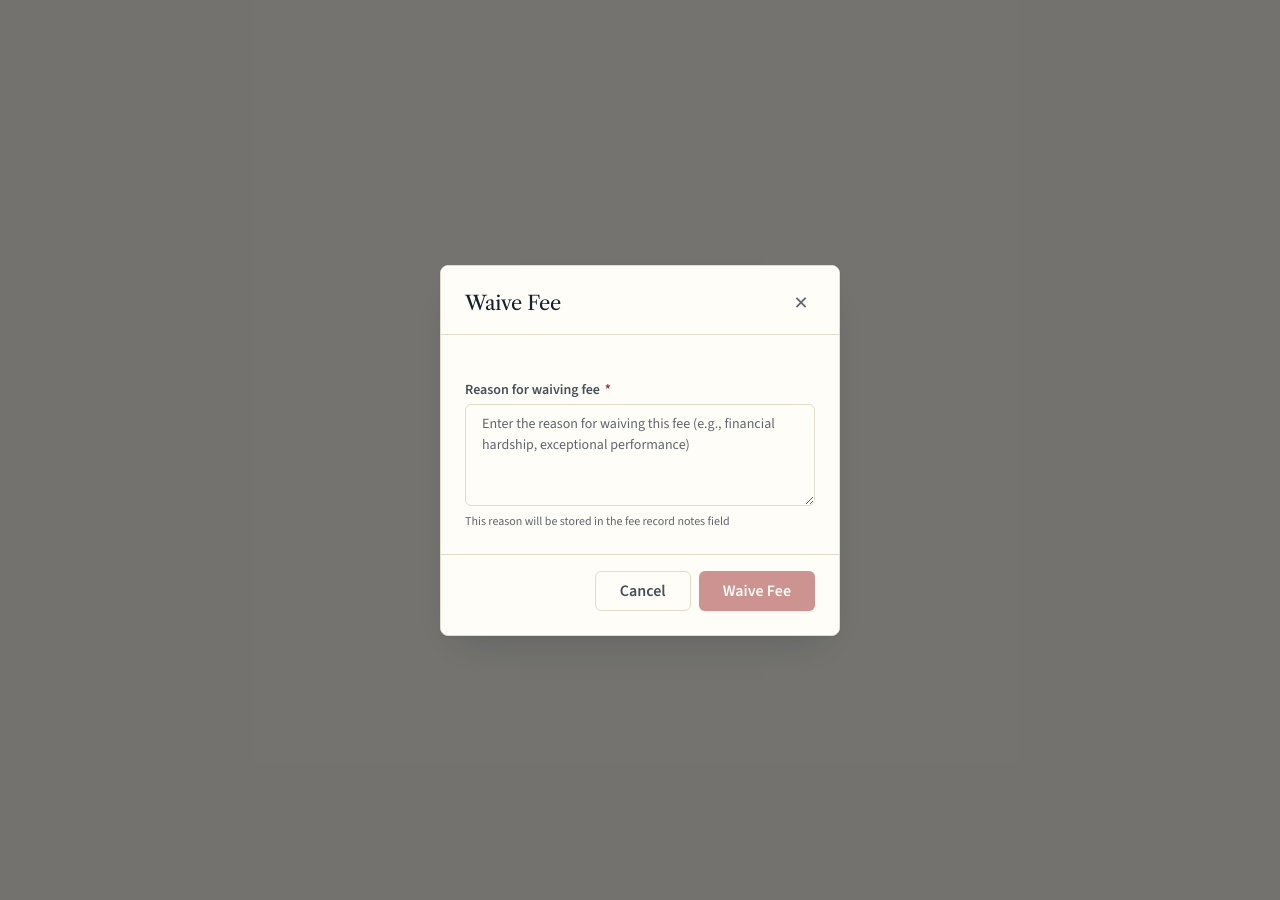
Test case: WaiveFeeModal › should show loading state when submitting
The image size is (1280, 900).
Replace the text in the text box labelled "Reason for waiving fee *" with "Test reason" at [640, 454], box [465, 404, 815, 506]
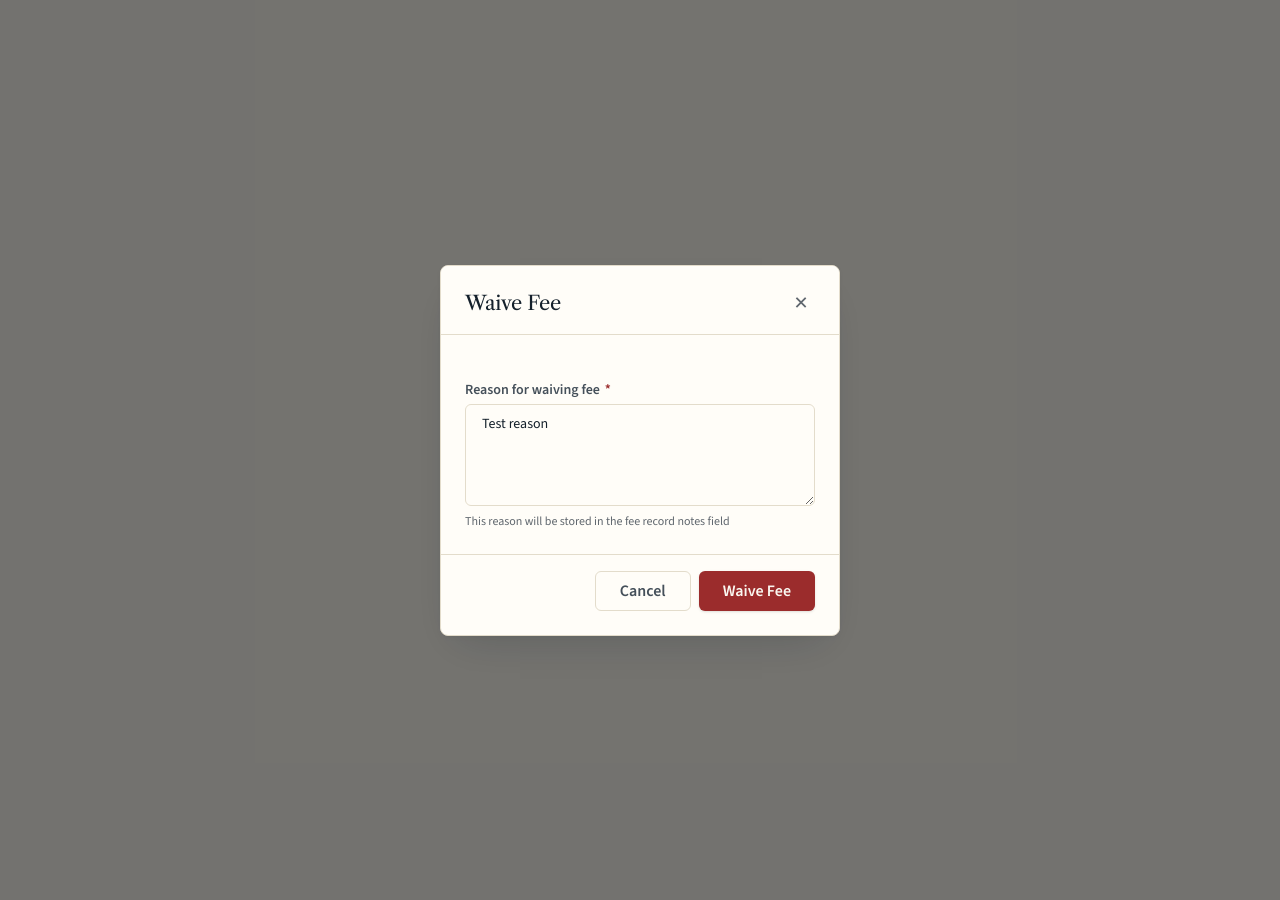
Click the button "Waive Fee".
click(757, 590)  # box [699, 570, 815, 610]
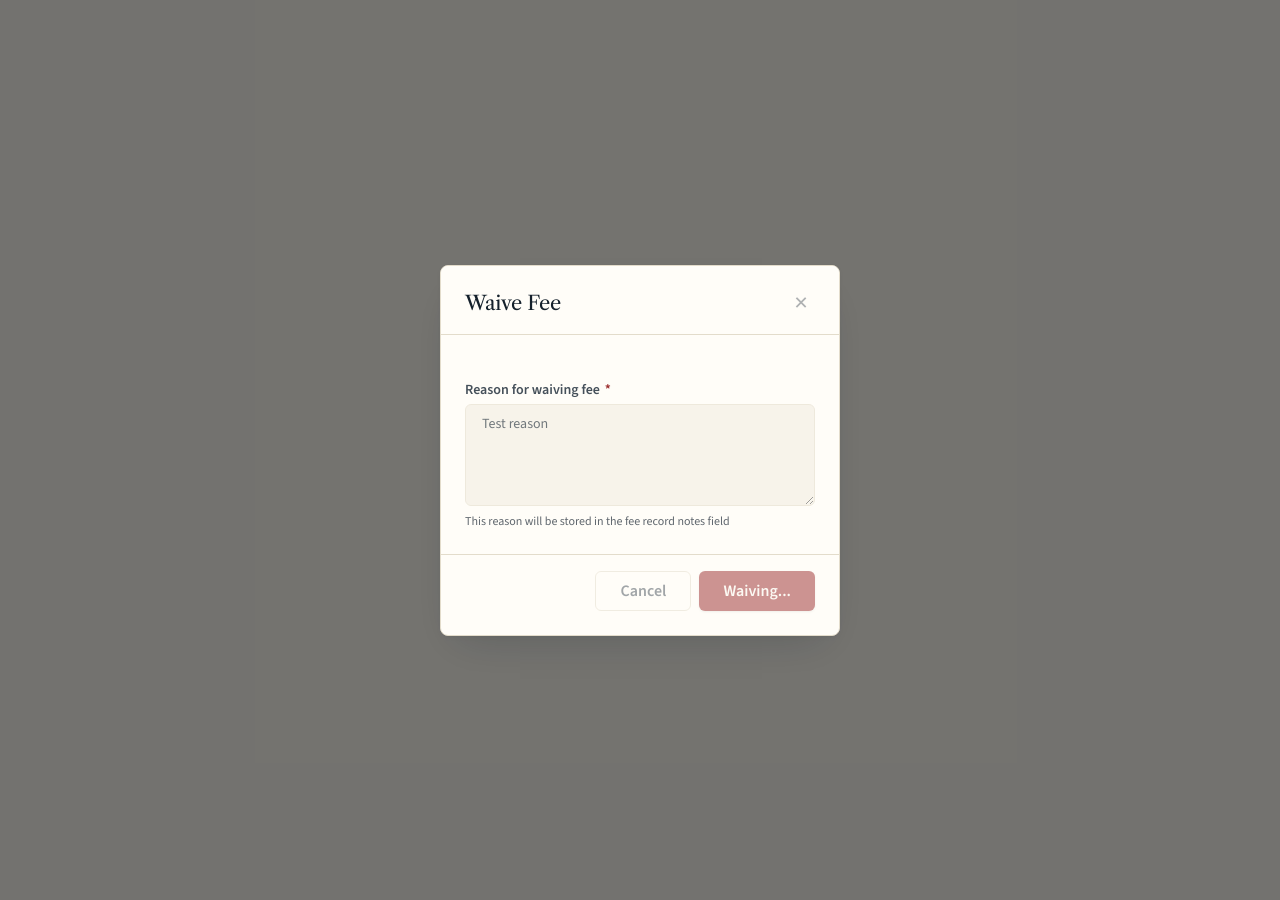
Expected: the button "Waiving..." is shown, [699, 570, 815, 610]
